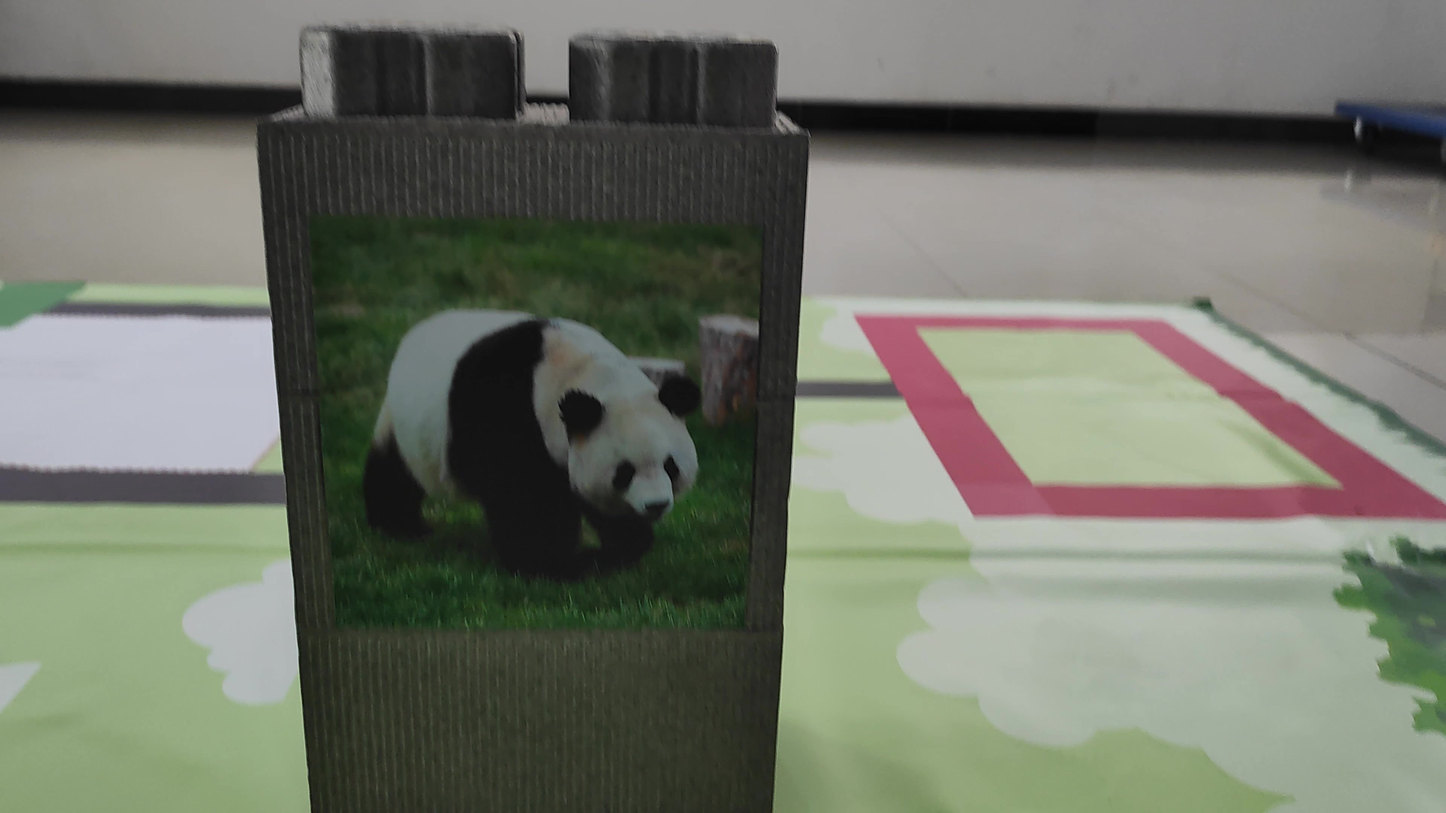panda: (349, 273, 699, 599)
